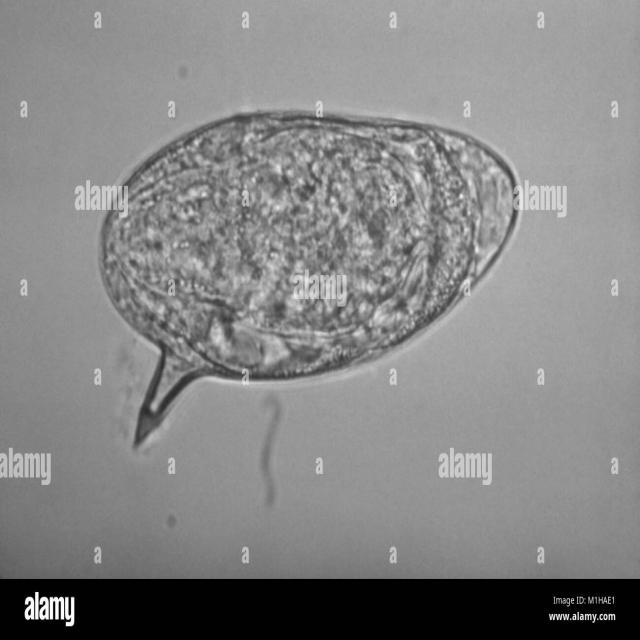Schistosoma: (88, 93, 529, 455)
